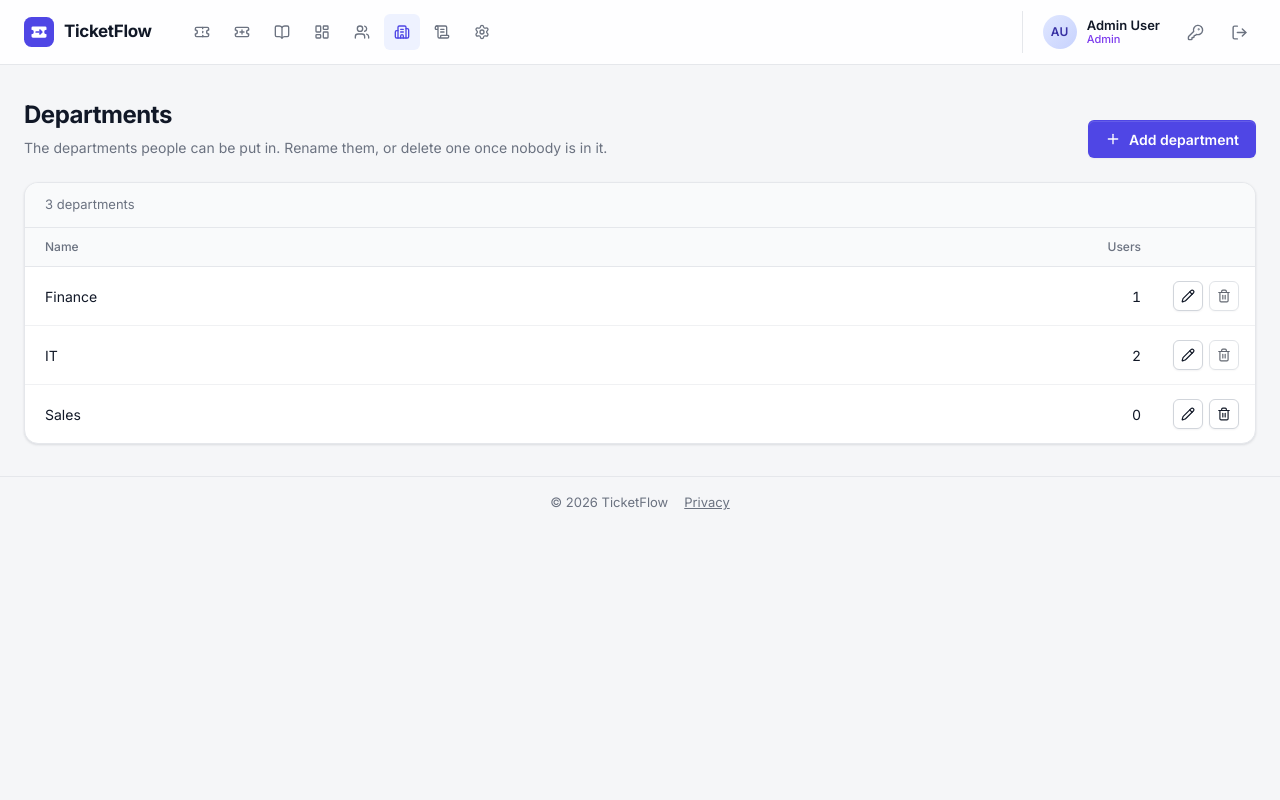
Test: Departments page › add › adds a department and puts it in the list, sorted by name
Check: the table is shown, box [25, 228, 1255, 443]
Click the button "Add department". click: (1172, 139)
box: [1088, 120, 1256, 158]
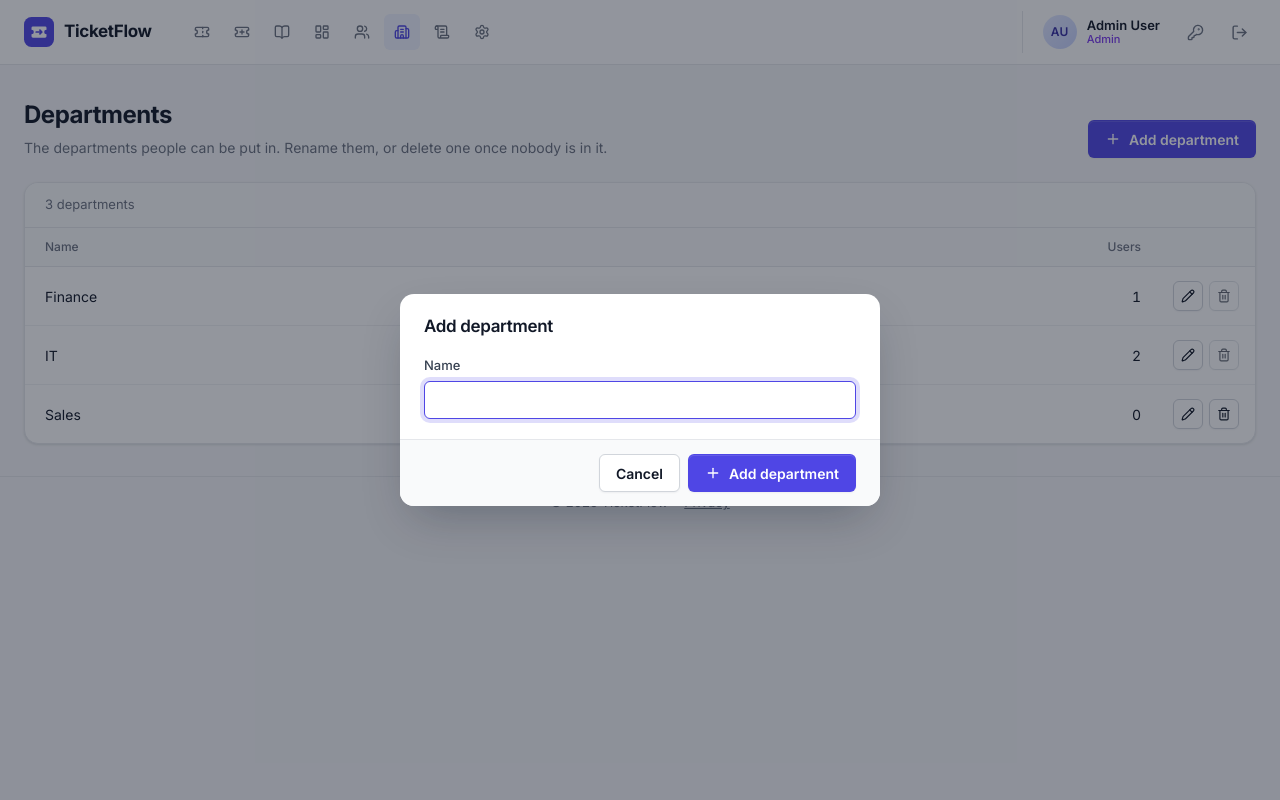
Type "  Human   Resources " into the field labelled "Name". click: (640, 400)
box: [424, 381, 856, 419]
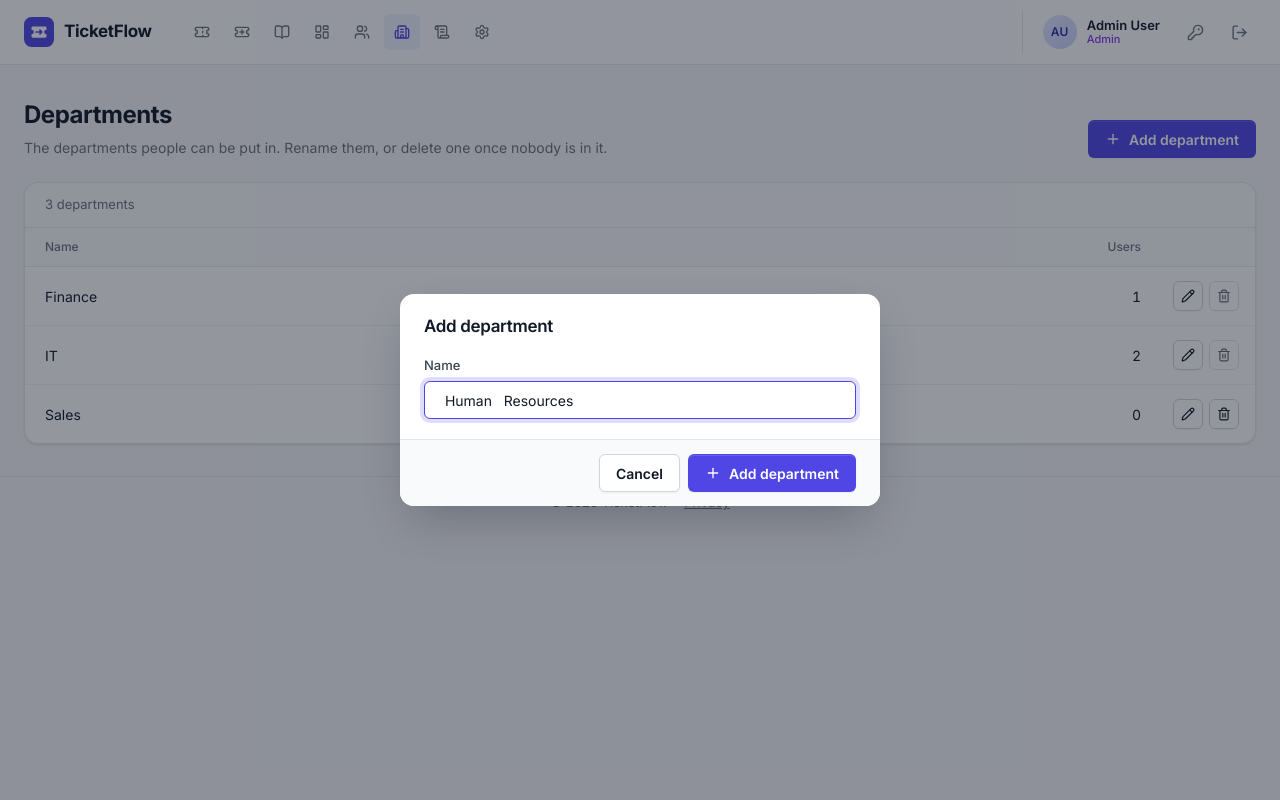
Click the button "Add department". click: (772, 473)
box: [688, 454, 856, 492]
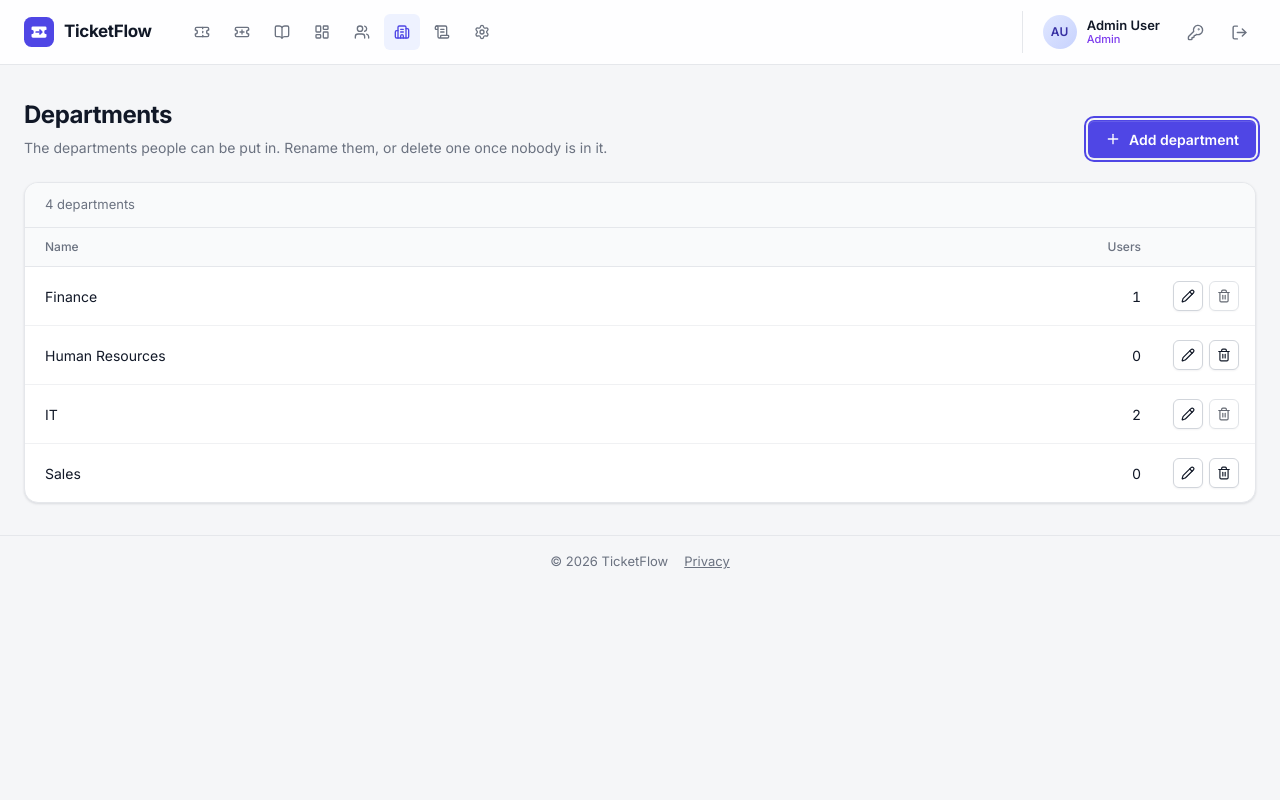
Check: the dialog is gone
